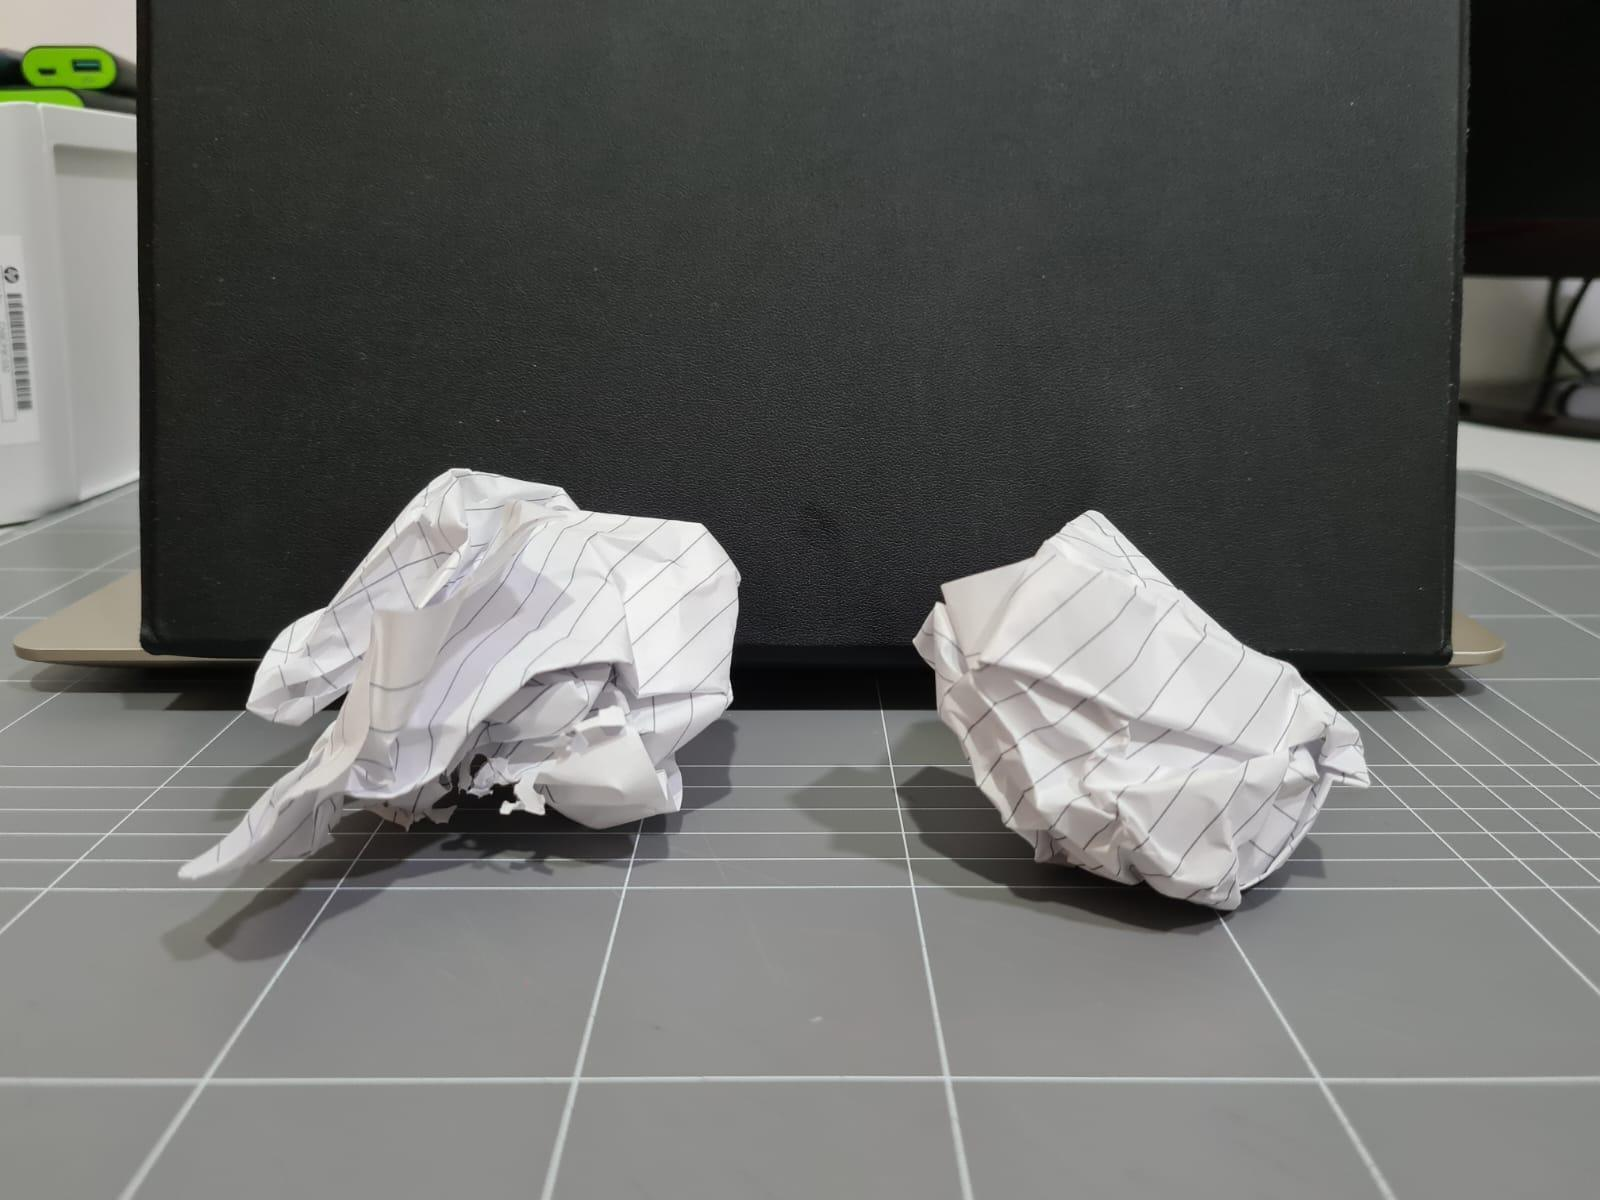Paper: (906, 503, 1380, 915), (266, 455, 748, 847)
